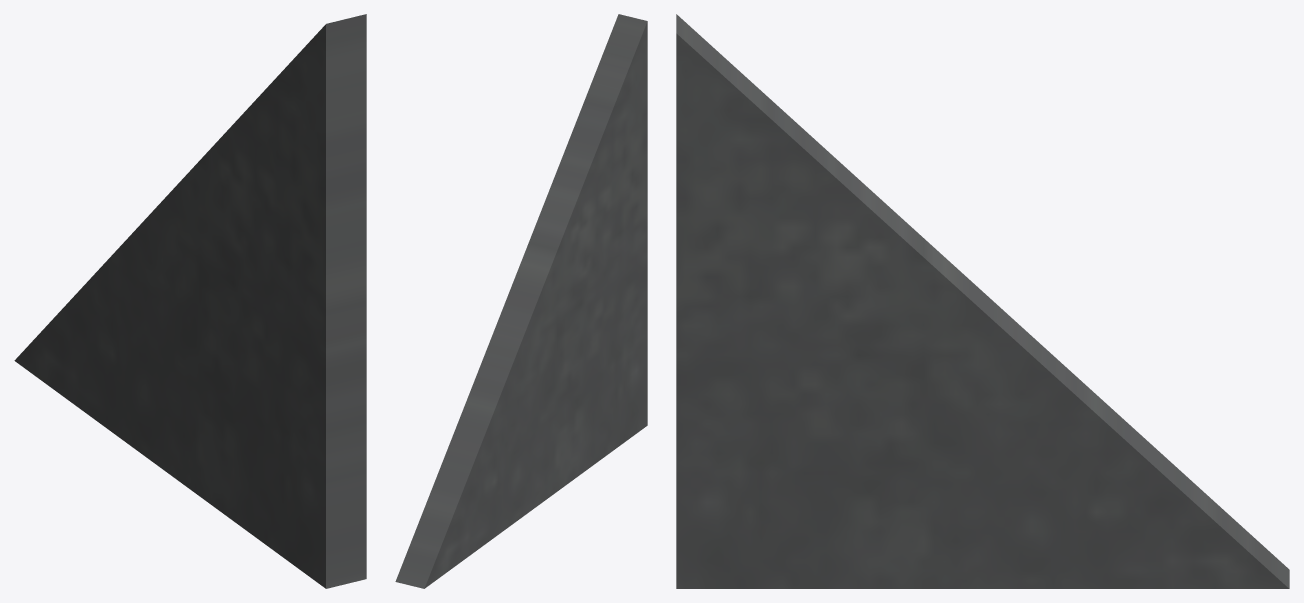
The model's file is wall 90.fbx.
3 views of the same model, side by side, from view 1: azimuth 30°, elevation 25°; view 2: azimuth 150°, elevation 25°; view 3: azimuth 270°, elevation 25° (orthographic). The views are drawn at different scales.
Parts seen in each view (by area): view 1: Plane.024; view 2: Plane.024; view 3: Plane.024.
Boxes of the visible parts, box(x1,y1,x2,y2) form: Plane.024: box(14, 14, 366, 588); Plane.024: box(395, 14, 647, 588); Plane.024: box(676, 14, 1289, 588).
Bounding box in the file's own units: 15 × 200 × 200.
